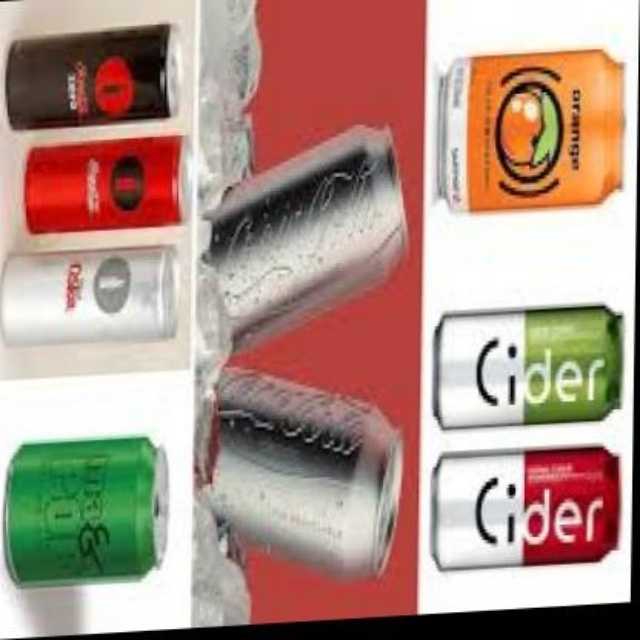trash: (202, 125, 405, 357), (214, 368, 402, 575), (442, 49, 622, 209), (5, 437, 166, 585), (435, 306, 620, 426), (435, 448, 617, 568), (6, 25, 168, 128), (2, 248, 172, 343), (25, 135, 180, 232)
